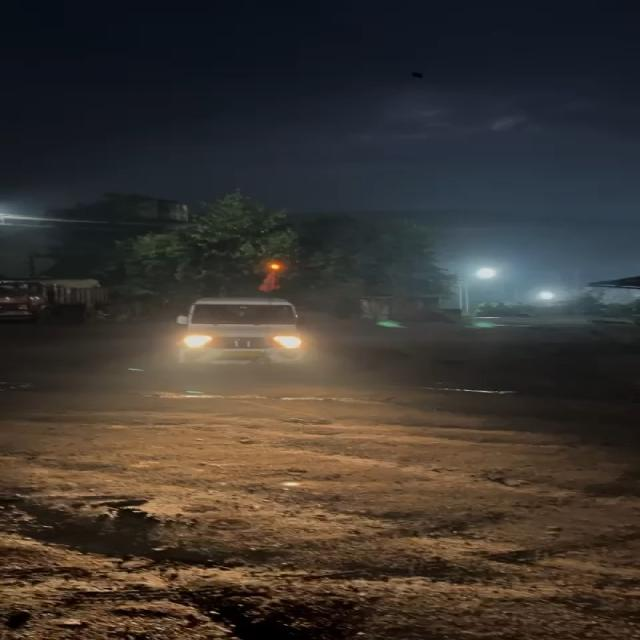light_vehicle: (174, 296, 305, 366)
